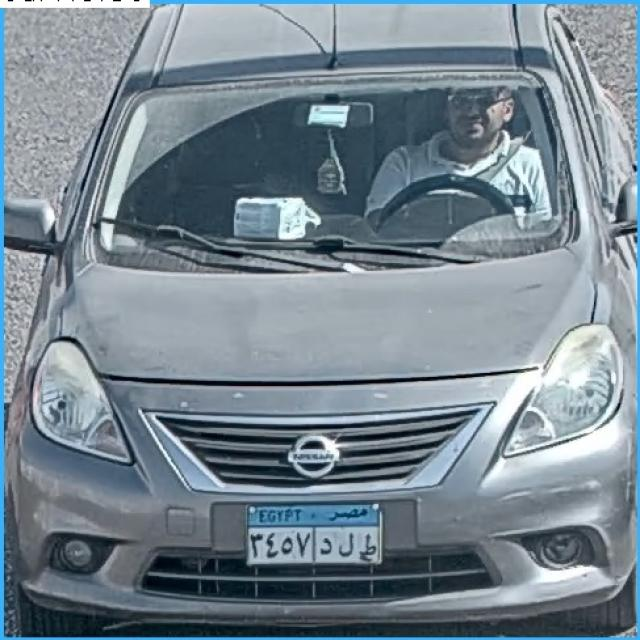windshield: (80, 71, 586, 255)
